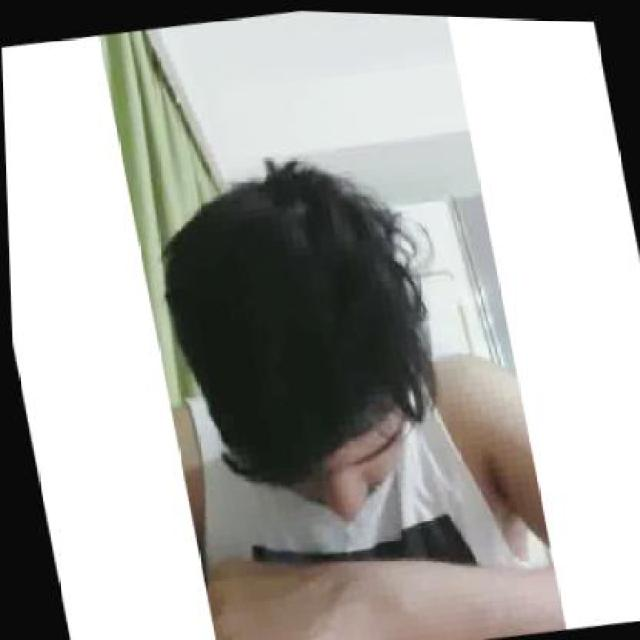inattentif: (147, 140, 415, 543)
